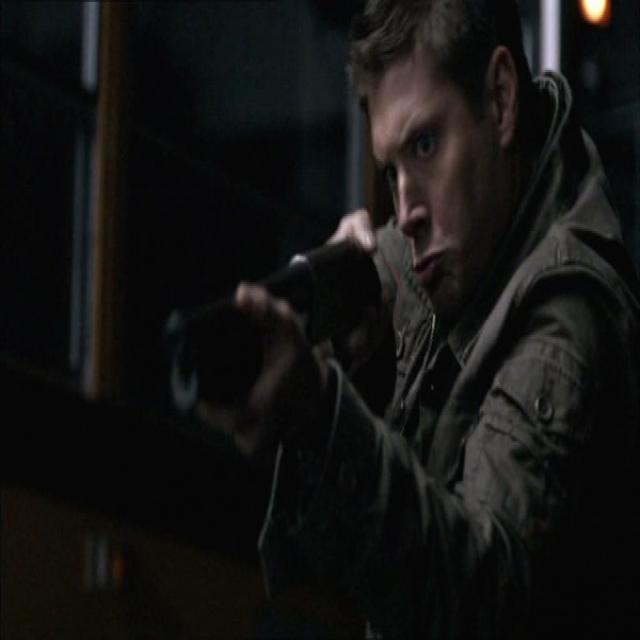rifle: (159, 240, 382, 429)
